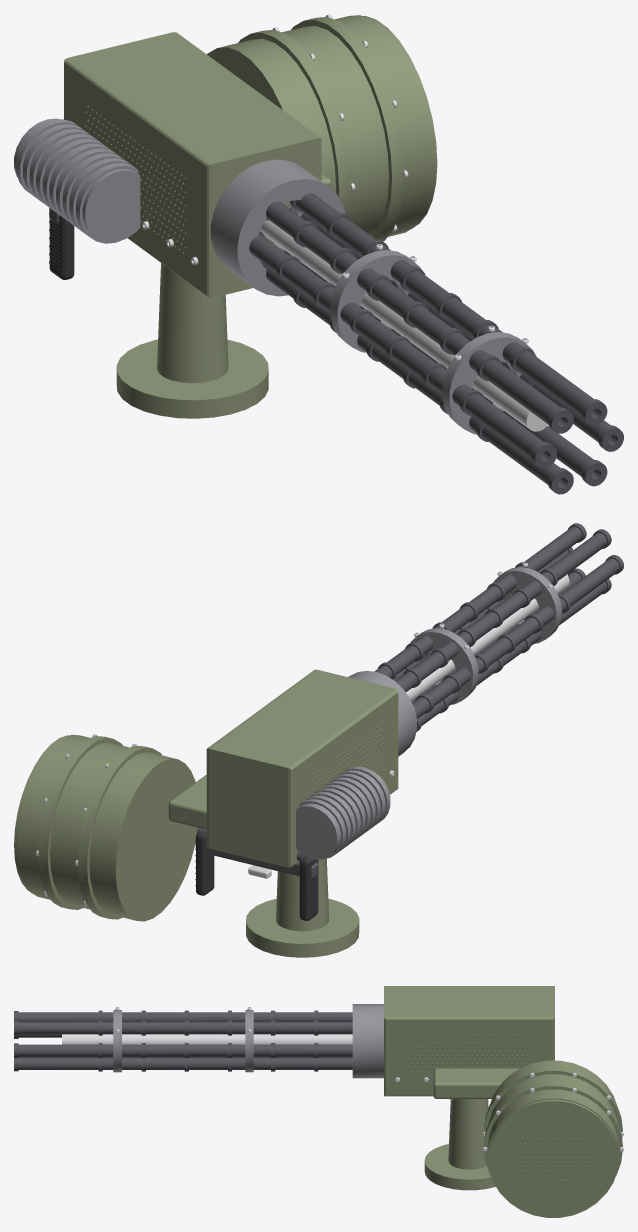
File: mega-weapon-pack-rotary-gun-2cb62e79__33348.glb
3 views of the same model, one above another, from view 1: azimuth 30°, elevation 25°; view 2: azimuth 150°, elevation 25°; view 3: azimuth 270°, elevation 25° (orthographic). The views are drawn at different scales.
Parts seen in each view (by area): view 1: rotary-gun, rotor/gunmetal, rotor/alloyDark, rotor/steelBright; view 2: rotary-gun, rotor/gunmetal, rotor/alloyDark, rotor/steelBright; view 3: rotary-gun, rotor/gunmetal, rotor/steelBright, rotor/alloyDark.
Boxes of the visible parts, x1=… form: rotary-gun: x1=14, y1=14, x2=437, y2=418; rotor/gunmetal: x1=249, y1=193, x2=623, y2=494; rotor/alloyDark: x1=273, y1=202, x2=536, y2=434; rotor/steelBright: x1=260, y1=220, x2=547, y2=431; rotary-gun: x1=14, y1=669, x2=416, y2=957; rotor/gunmetal: x1=374, y1=523, x2=623, y2=731; rotor/alloyDark: x1=410, y1=567, x2=561, y2=704; rotor/steelBright: x1=406, y1=562, x2=569, y2=701; rotary-gun: x1=352, y1=986, x2=623, y2=1217; rotor/gunmetal: x1=14, y1=1010, x2=352, y2=1071; rotor/steelBright: x1=62, y1=1007, x2=352, y2=1044; rotor/alloyDark: x1=113, y1=1010, x2=253, y2=1072.
Size of the model in its own units: 0.4289 by 0.3125 by 1.02.
